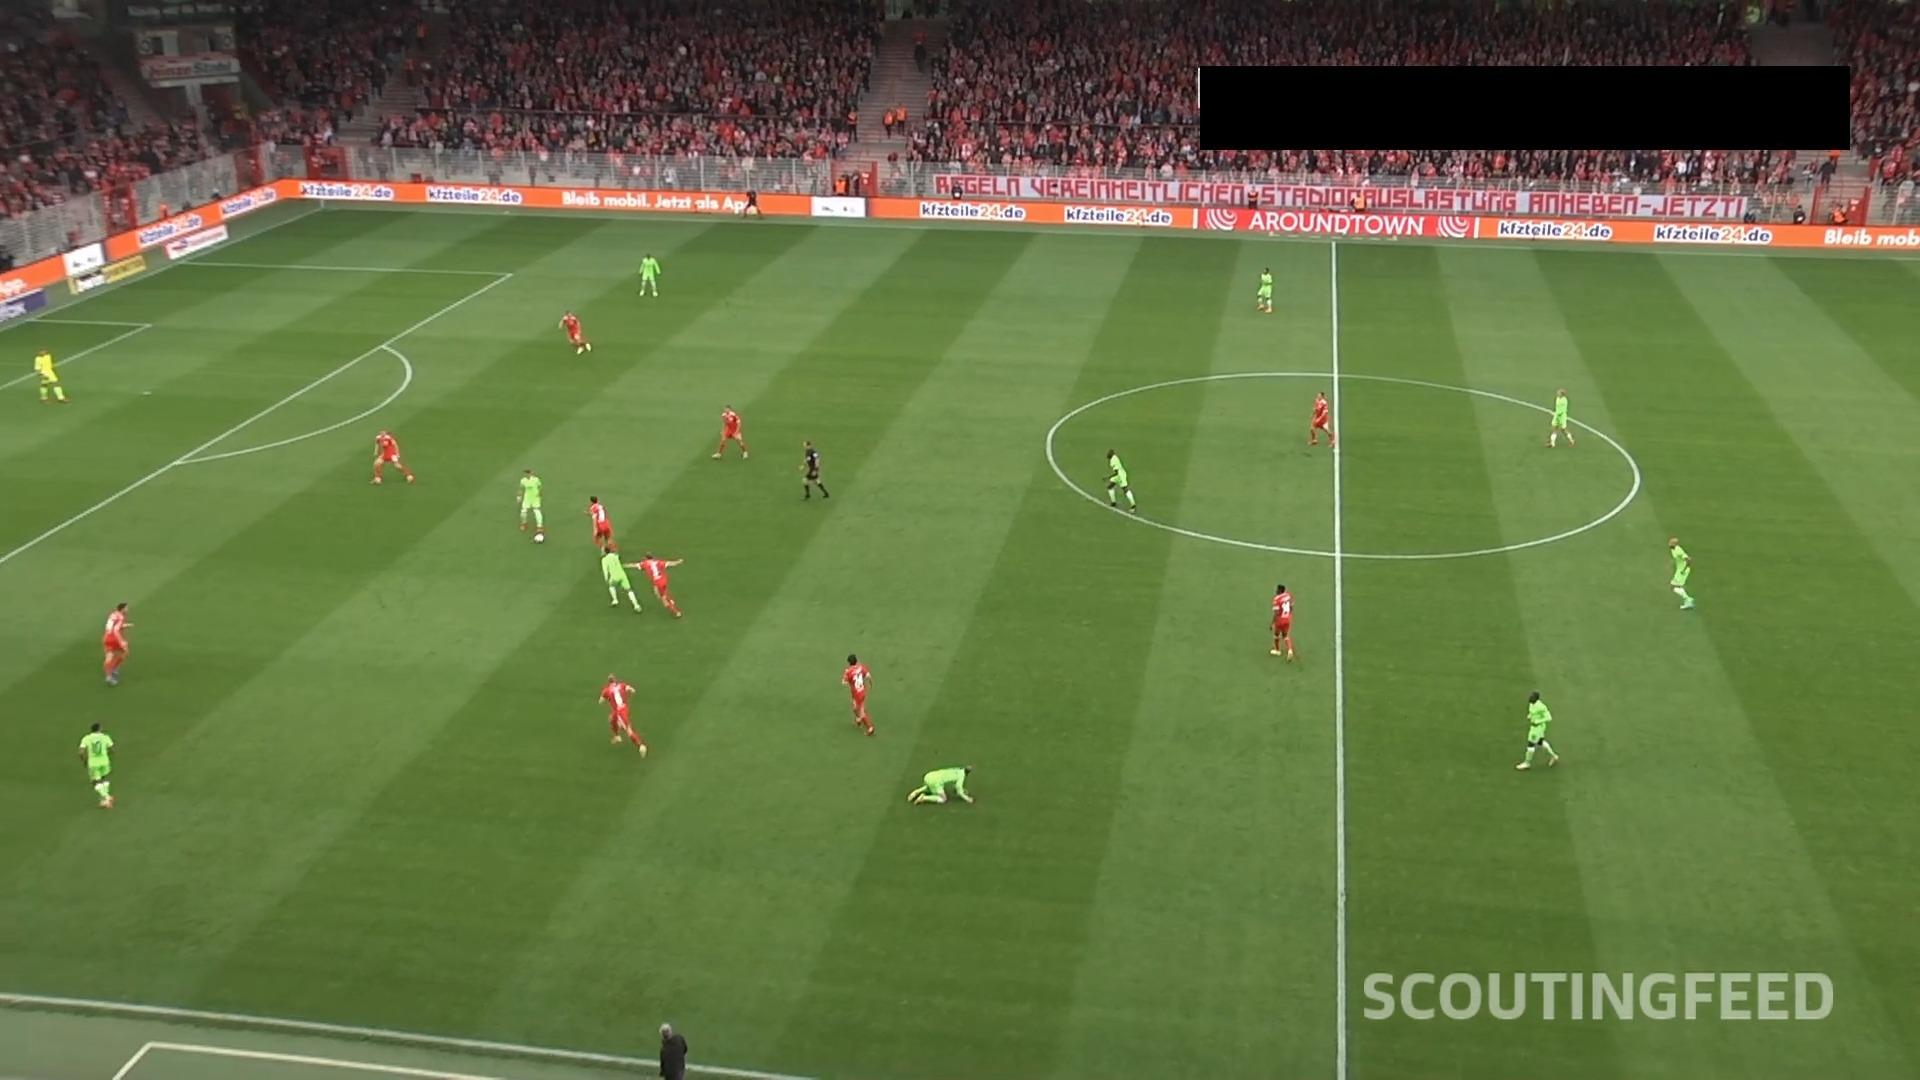ball: (533, 531, 545, 545)
